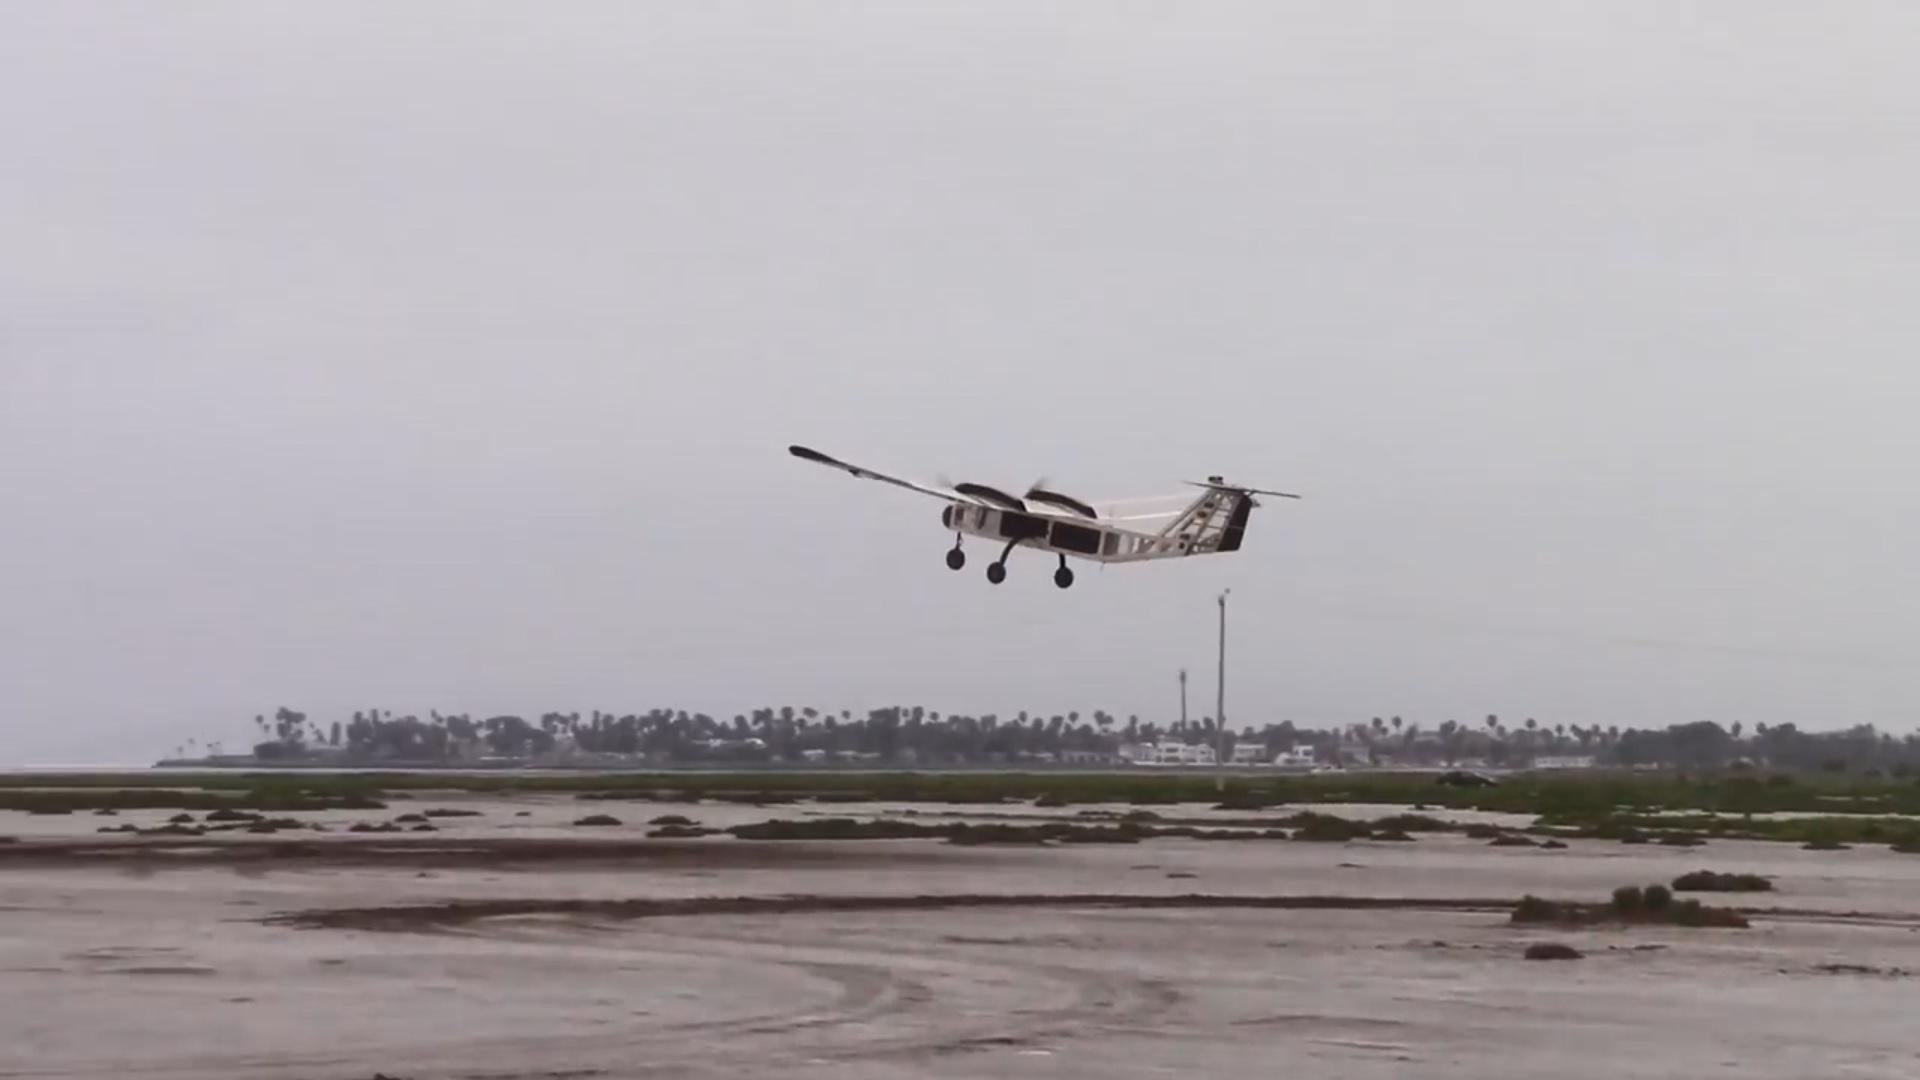Airplane: (778, 418, 1304, 596)
